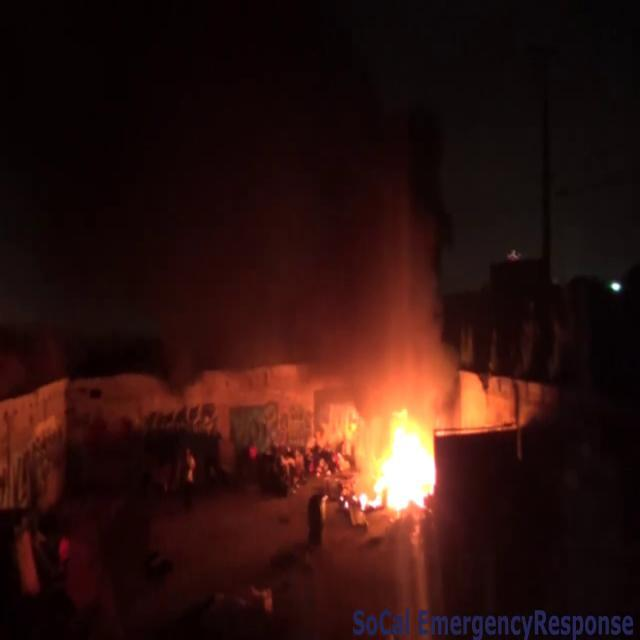Fire: (338, 391, 450, 517)
Smoke: (232, 0, 456, 398)
